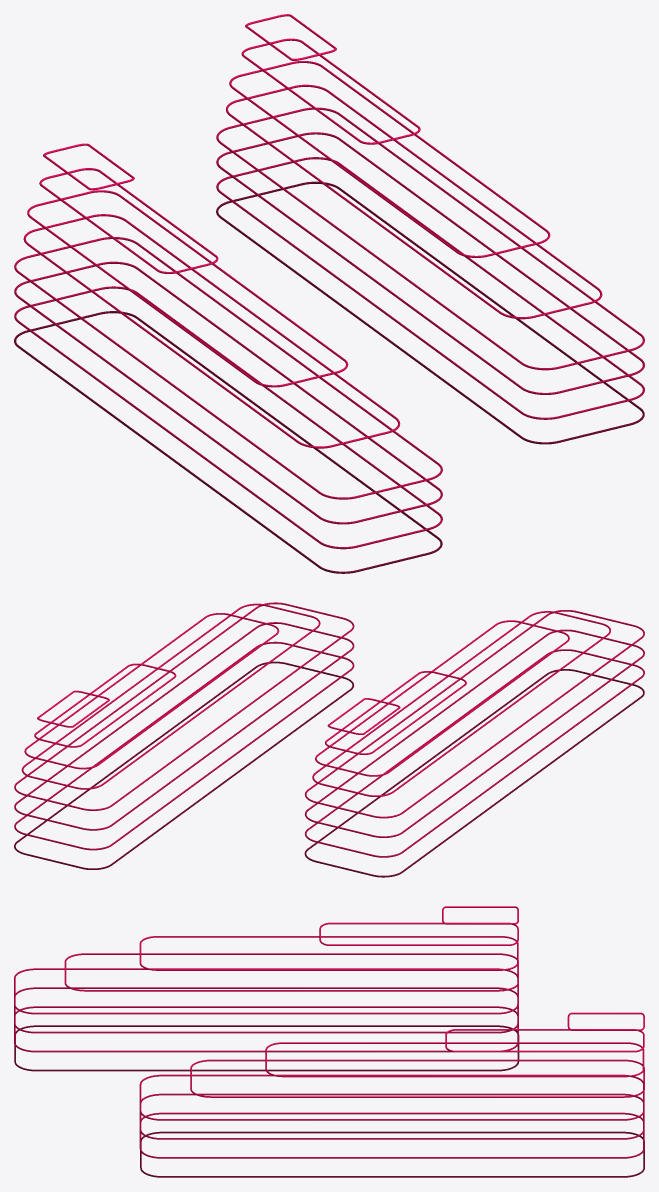
Rendered from koyaku.glb.
3 renders of one model, top to bottom at view 1: azimuth 30°, elevation 25°; view 2: azimuth 150°, elevation 25°; view 3: azimuth 270°, elevation 25°, orthographic. The views are drawn at different scales.
Visible parts, largest first — view 1: スイープ.3 (×2), スイープ.4 (×2), スイープ.1 (×2), スイープ.2 (×2), スイープ.5 (×2), スイープ.6 (×2), スイープ.7 (×2); view 2: スイープ.4 (×2), スイープ.3 (×2), スイープ.1 (×2), スイープ.2 (×2), スイープ.5 (×2), スイープ.6 (×2), スイープ.7 (×2); view 3: スイープ.1 (×2), スイープ.3 (×2), スイープ.2 (×2), スイープ.4 (×2), スイープ.5 (×2), スイープ.6 (×2), スイープ.7 (×2), スイープ.
Boxes of the visible parts, x1=… form: スイープ.3 (×2): x1=14, y1=132, x2=644, y2=524; スイープ.4 (×2): x1=14, y1=107, x2=644, y2=499; スイープ.1 (×2): x1=14, y1=181, x2=644, y2=573; スイープ.2 (×2): x1=14, y1=157, x2=644, y2=549; スイープ.5 (×2): x1=23, y1=84, x2=602, y2=448; スイープ.6 (×2): x1=27, y1=61, x2=550, y2=387; スイープ.7 (×2): x1=39, y1=38, x2=420, y2=273; スイープ.4 (×2): x1=14, y1=602, x2=644, y2=818; スイープ.3 (×2): x1=14, y1=622, x2=644, y2=837; スイープ.1 (×2): x1=14, y1=661, x2=644, y2=877; スイープ.2 (×2): x1=14, y1=641, x2=644, y2=857; スイープ.5 (×2): x1=21, y1=603, x2=610, y2=796; スイープ.6 (×2): x1=24, y1=613, x2=569, y2=776; スイープ.7 (×2): x1=34, y1=663, x2=466, y2=754; スイープ.1 (×2): x1=14, y1=1025, x2=644, y2=1177; スイープ.3 (×2): x1=14, y1=987, x2=644, y2=1139; スイープ.2 (×2): x1=14, y1=1006, x2=644, y2=1158; スイープ.4 (×2): x1=14, y1=968, x2=644, y2=1120; スイープ.5 (×2): x1=64, y1=953, x2=644, y2=1097; スイープ.6 (×2): x1=139, y1=936, x2=644, y2=1077; スイープ.7 (×2): x1=319, y1=922, x2=644, y2=1052; スイープ: x1=567, y1=1012, x2=644, y2=1030.
Size of the model in its own units: 0.00854 by 0.00354 by 0.015.
